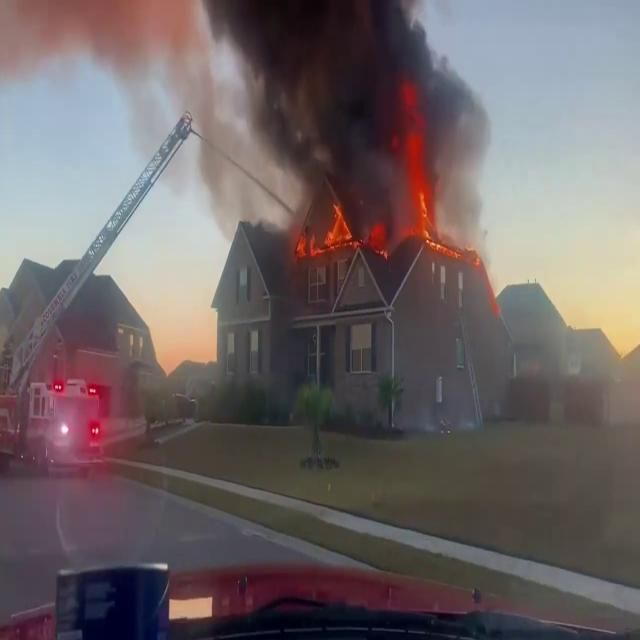Fire: (392, 106, 446, 247), (296, 196, 386, 256), (297, 196, 356, 256)
Smoke: (194, 0, 494, 240)
